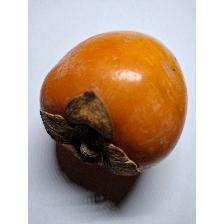Kaki: (36, 25, 191, 178)
